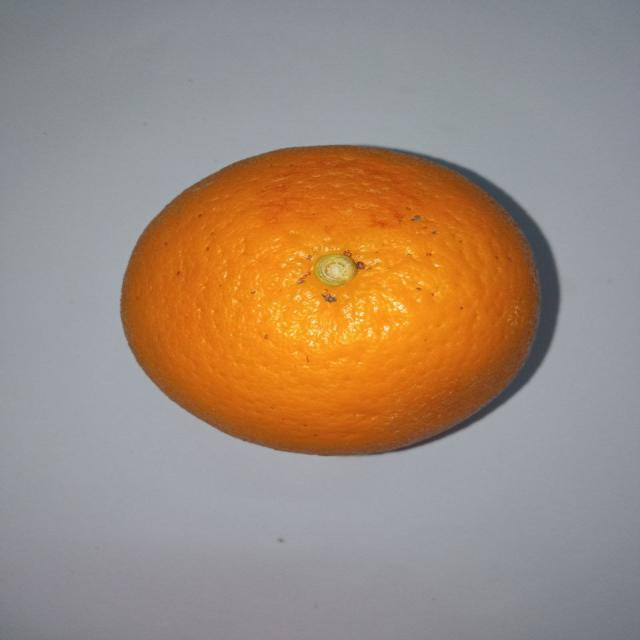fresh_orange: (120, 144, 543, 454)
